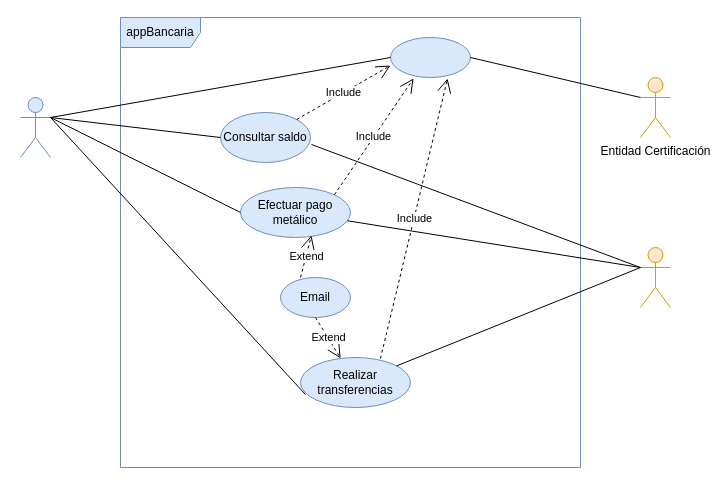
Image size: 728x485. Some labels were removed from this diagram. Here are the shapes that lost their labels. From the top down, the centre of each, then its label:
At pixel 430 57: "Login".
At pixel 35 127: "Cliente".
At pixel 655 277: "Sistema bancaria".
